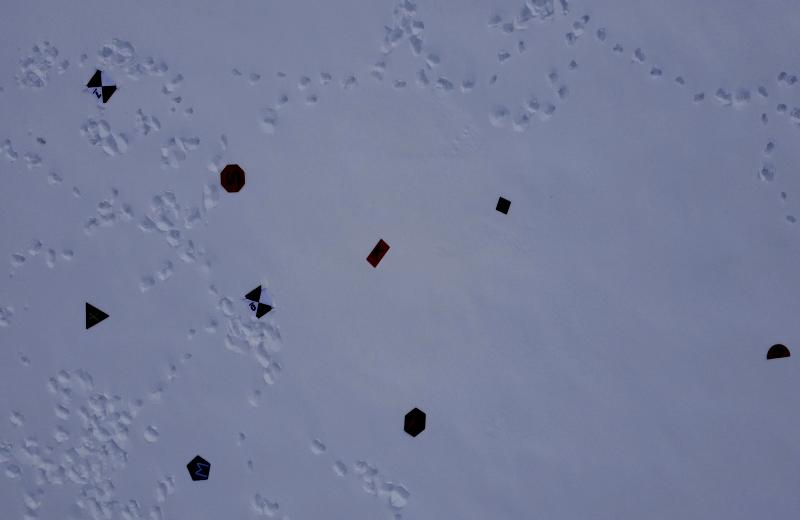Hexagon: (400, 404, 428, 444)
Octagon: (219, 160, 250, 195)
Pentagon: (183, 452, 215, 484)
Rectangle: (364, 241, 394, 273)
Semi Circle: (764, 341, 794, 364)
Square: (494, 195, 512, 217)
Triangle: (79, 304, 110, 330)
